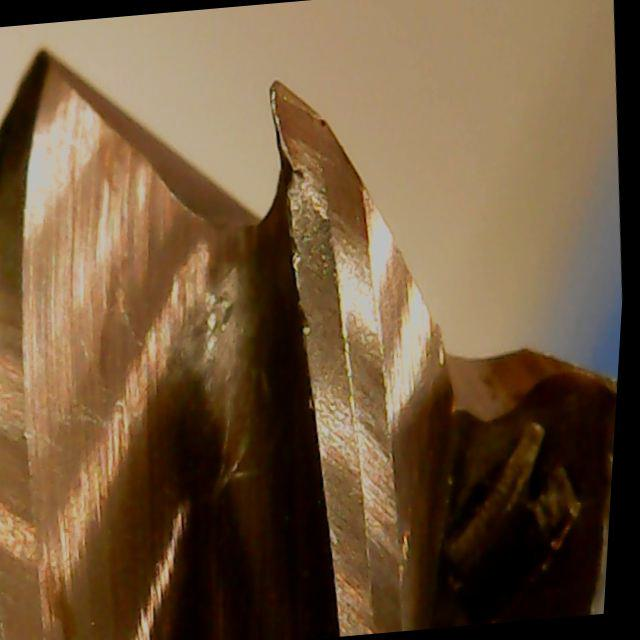Tool-wear-class-1: (237, 62, 414, 370)
